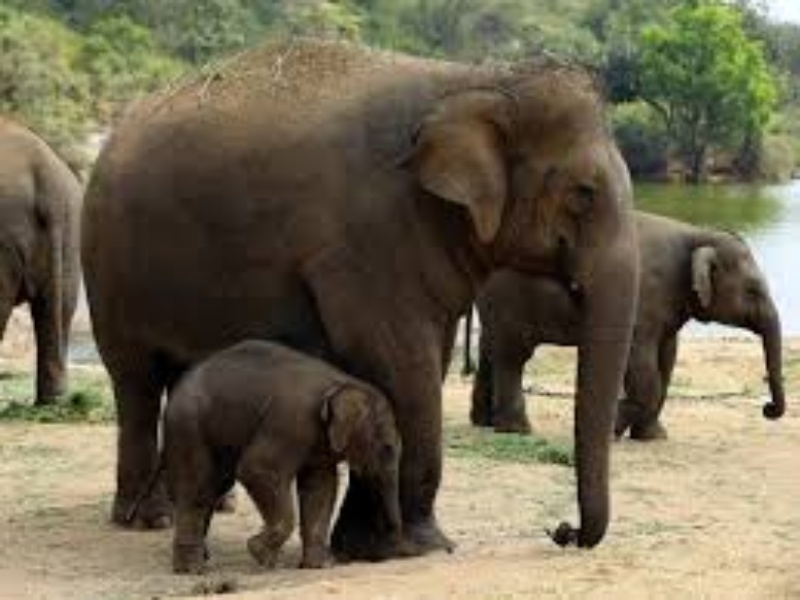elephant: (62, 46, 673, 592)
